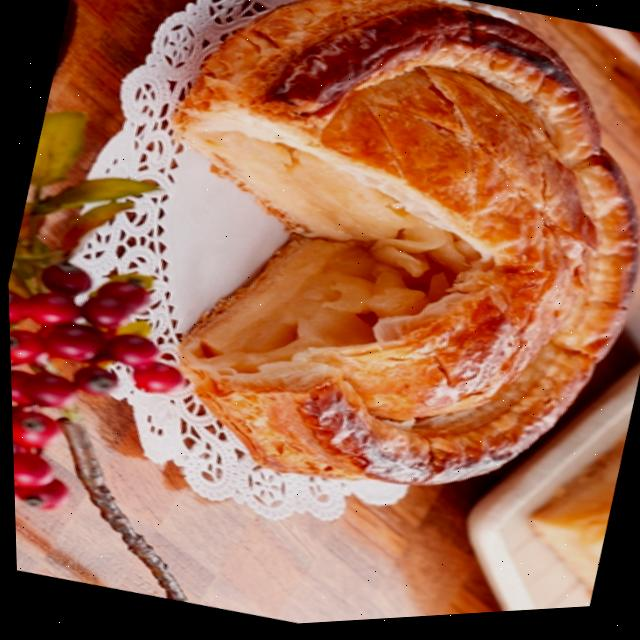炸货点心: (51, 0, 640, 615)
蛋糕甜品: (51, 0, 640, 615)
